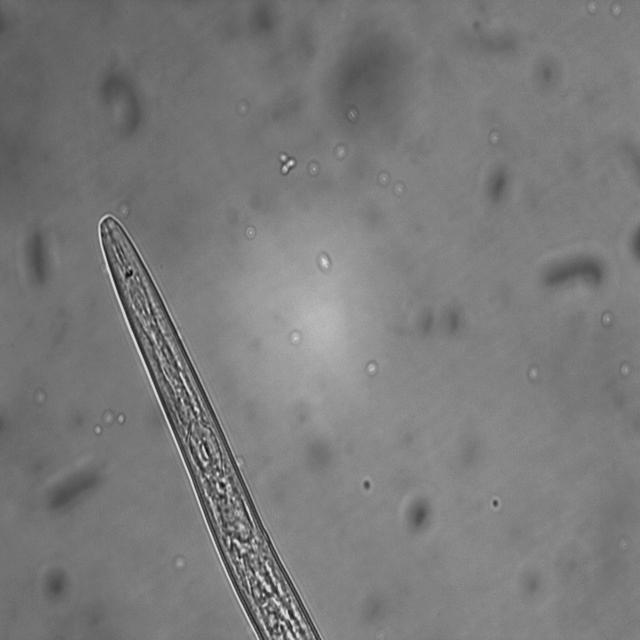Meloidogyne: (92, 212, 324, 640)
